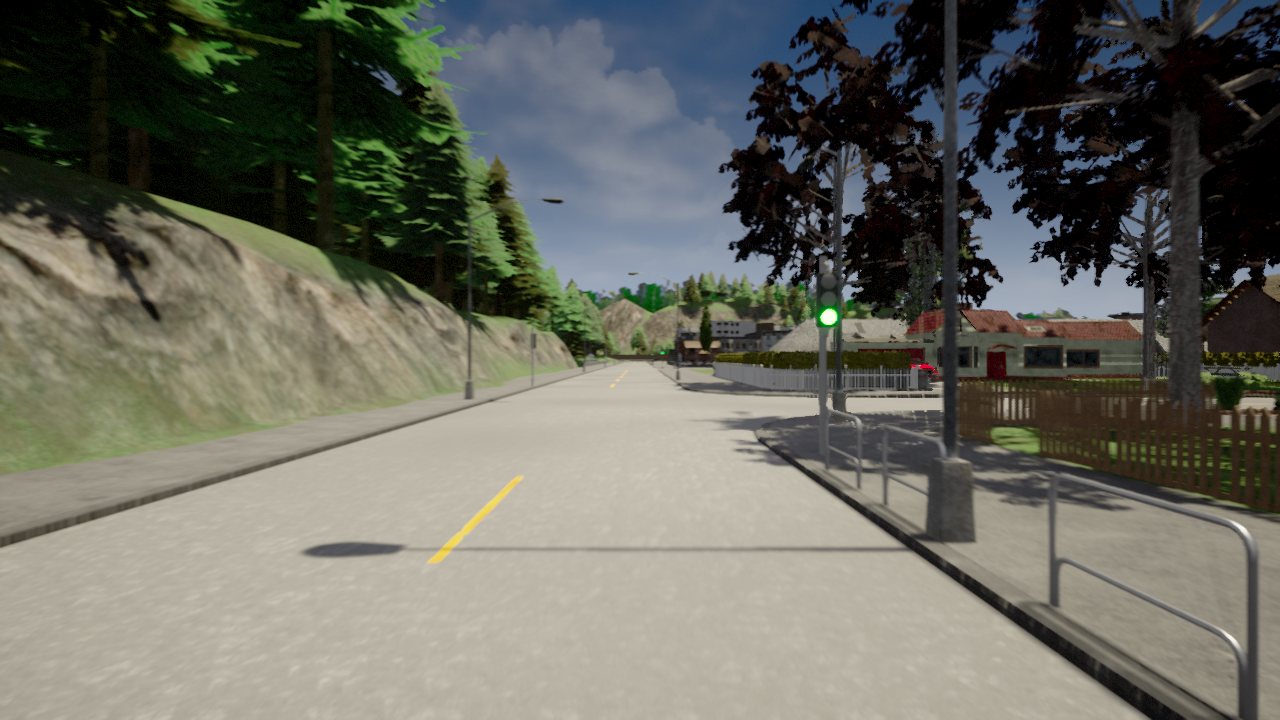green: (817, 269, 840, 329)
